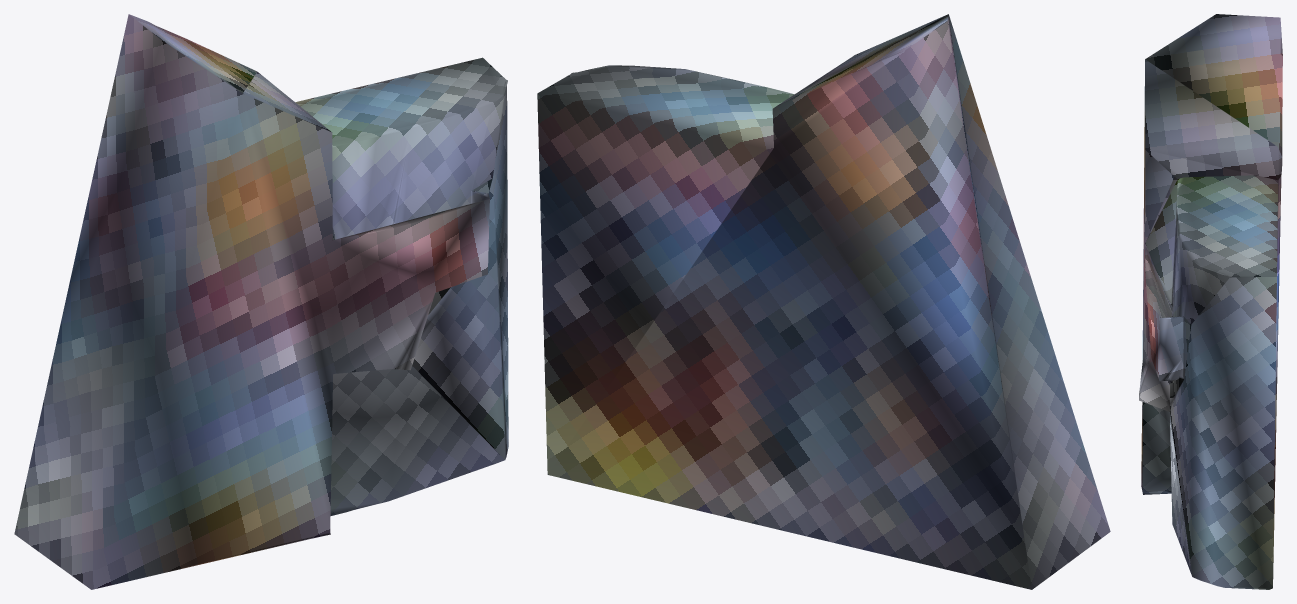
The model's file is Hasbro_Monopoly_Hotels_Game-low.glb.
3 views of the same model, side by side, from view 1: azimuth 30°, elevation 25°; view 2: azimuth 150°, elevation 25°; view 3: azimuth 270°, elevation 25° (orthographic). The views are drawn at different scales.
Visible parts, largest first — view 1: Hasbro_Monopoly_Hotels_Game; view 2: Hasbro_Monopoly_Hotels_Game; view 3: Hasbro_Monopoly_Hotels_Game.
Part boxes in pixels (bbox=[...]): Hasbro_Monopoly_Hotels_Game: bbox=[14, 14, 508, 589]; Hasbro_Monopoly_Hotels_Game: bbox=[537, 14, 1110, 589]; Hasbro_Monopoly_Hotels_Game: bbox=[1139, 14, 1282, 589].
Bounding box in the file's own units: 0.2772 × 0.2791 × 0.085.
Materials: 1 (1 with a texture image).
